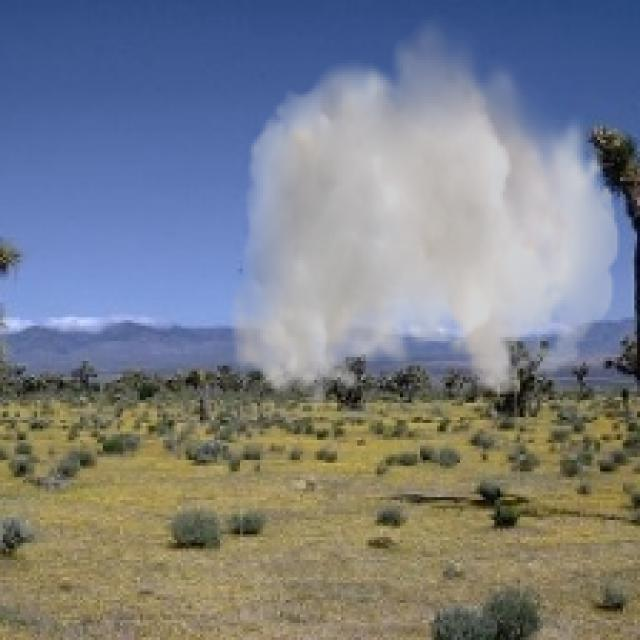smoke: (229, 11, 620, 412)
